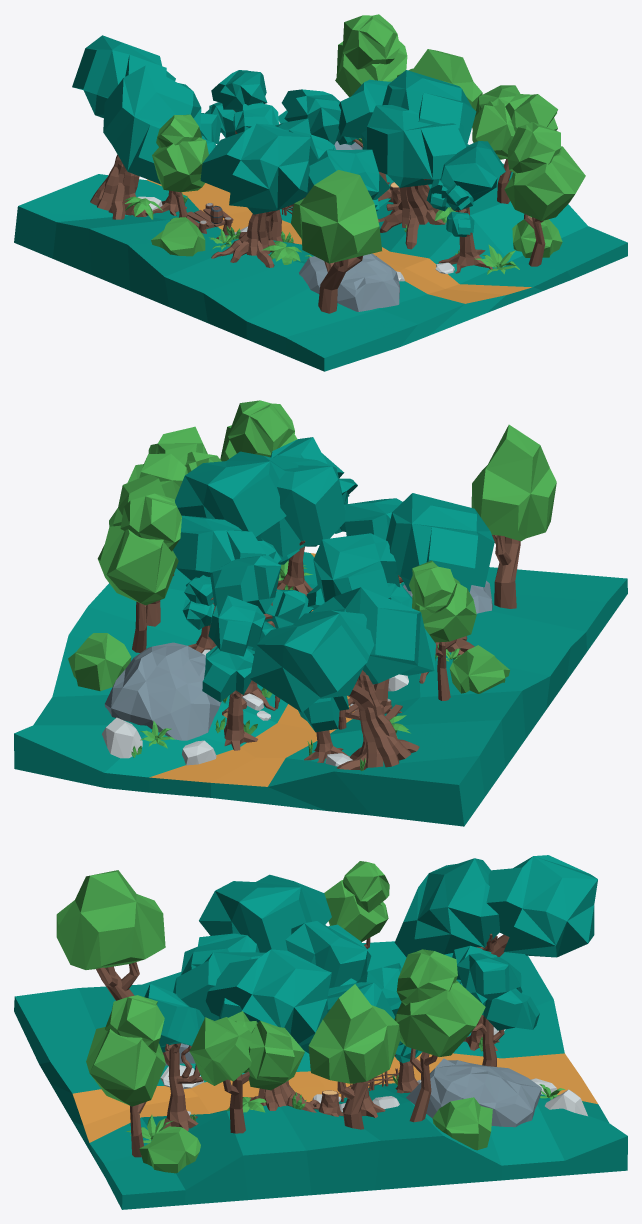
Rendered from forest.glb.
The picture shows the model from 3 angles, top to bottom: view 1: azimuth 30°, elevation 25°; view 2: azimuth 150°, elevation 25°; view 3: azimuth 270°, elevation 25°; orthographic projection. The views are drawn at different scales.
Visible parts, largest first — view 1: Forest; view 2: Forest; view 3: Forest.
Boxes of the visible parts, <box> form: Forest: <box>14,14,627,371</box>; Forest: <box>14,400,627,826</box>; Forest: <box>14,855,627,1209</box>.
Bounding box in the file's own units: 1.4 × 0.581 × 1.52.
